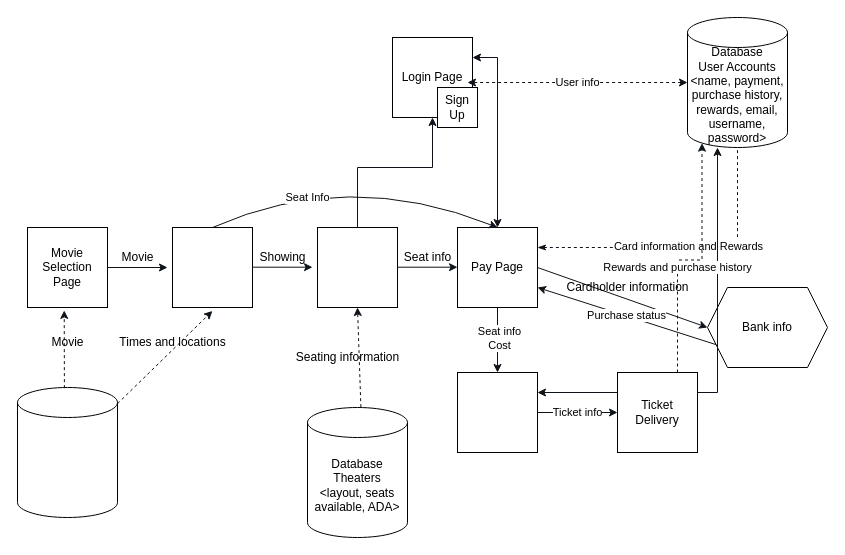
This 845x555 diagram has some shape labels left out. The box of each missing label's shape, as (x1, y1, x2, y2) in pixels:
Confirmation Page: (456, 372, 538, 452)
Database List of Movies <times, locations>: (16, 386, 118, 518)
Select Seat Page: (316, 226, 398, 308)
Time and Theater Page: (172, 226, 252, 308)
